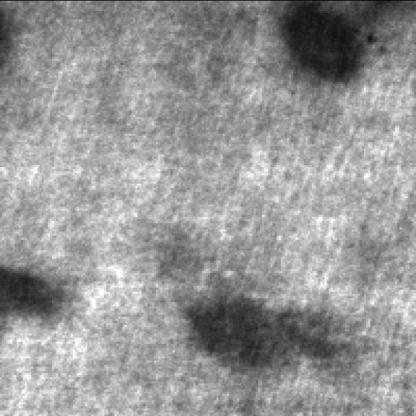patches: (189, 298, 352, 374), (279, 5, 391, 86), (2, 272, 79, 342)
